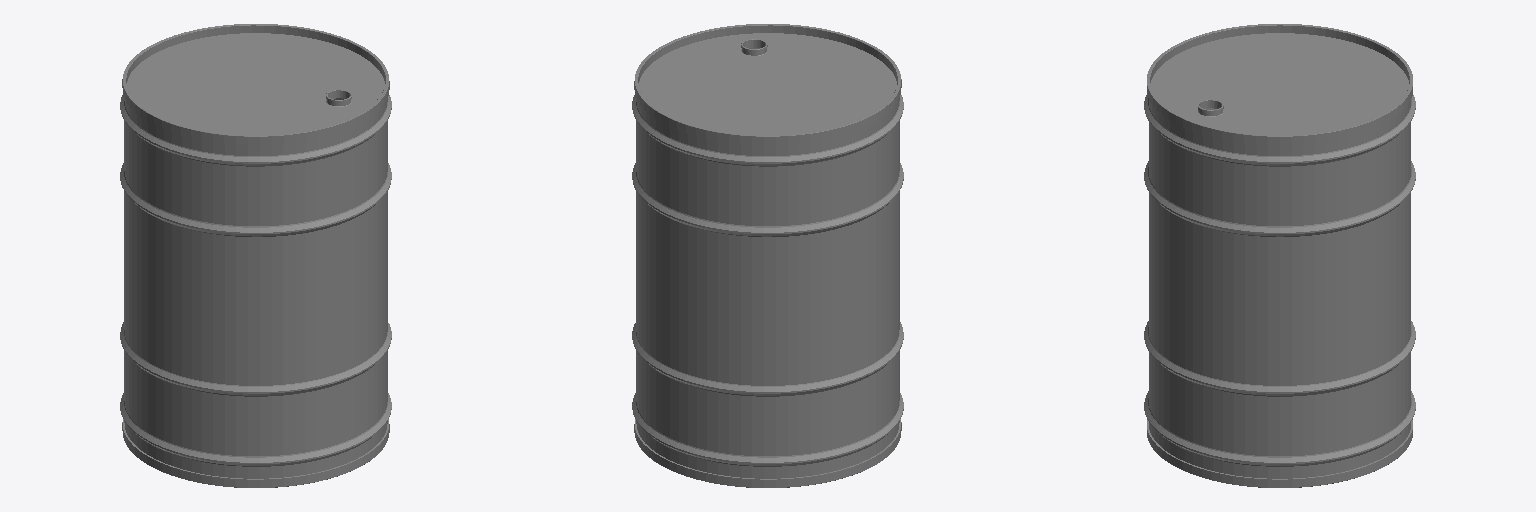
The model's file is barrel.obj.
The picture shows the model from 3 angles: view 1: azimuth 30°, elevation 25°; view 2: azimuth 150°, elevation 25°; view 3: azimuth 270°, elevation 25°; orthographic projection.
Parts seen in each view (by area): view 1: Barrel; view 2: Barrel; view 3: Barrel.
Boxes of the visible parts, box(x1,y1,x2,y2) form: Barrel: box(120, 24, 391, 487); Barrel: box(632, 24, 903, 487); Barrel: box(1144, 24, 1415, 487).
Size of the model in its own units: 98.08 by 140 by 97.98.